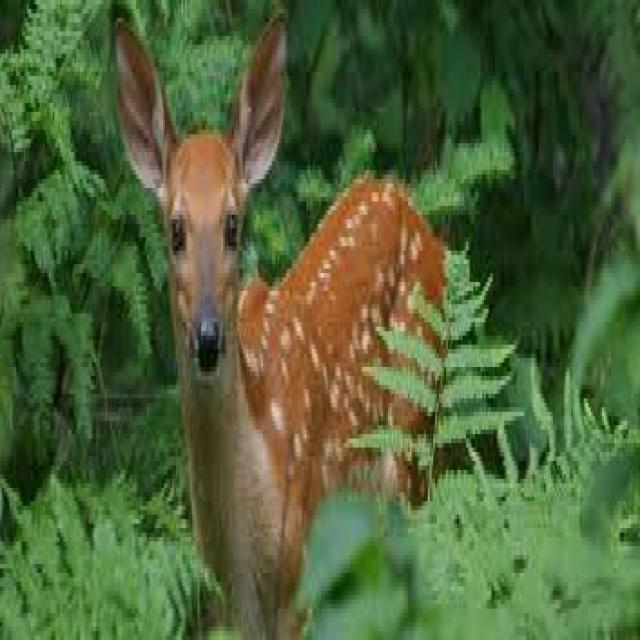deer: (118, 13, 444, 636)
